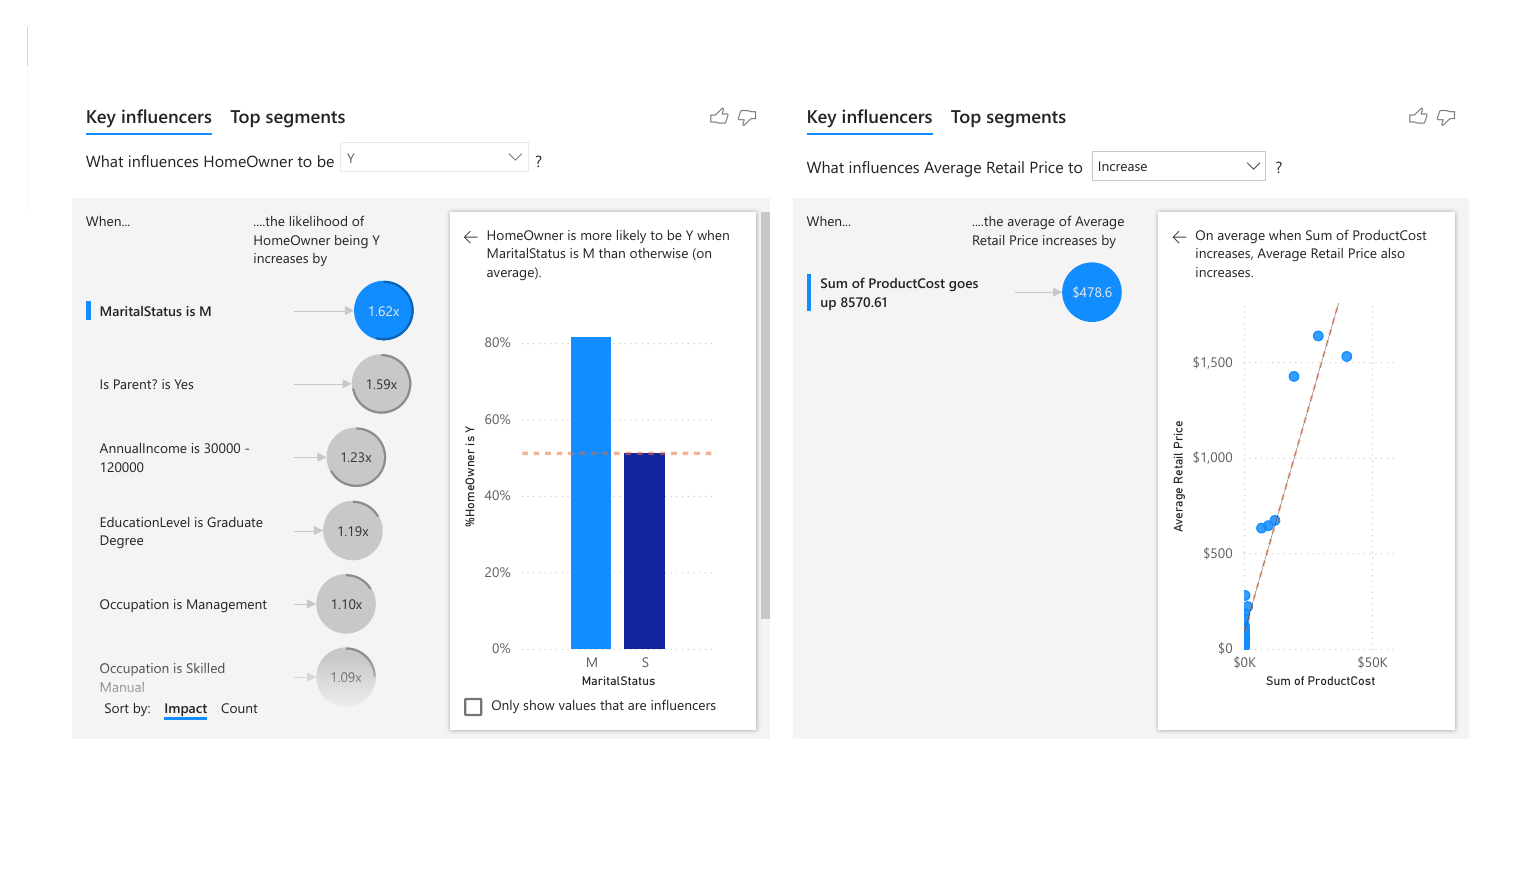

What the dashboard file says about the page in this screenshot:
{"tool":"powerbi","page":{"name":"Key Influencers","canvas":[1280,720],"ordinal":7},"visuals":[{"type":"keyDriversVisual","fields":{"Target":["Customer Lookup.HomeOwner"],"ExplainBy":["Customer Lookup.AnnualIncome","Customer Lookup.EducationLevel","Customer Lookup.Is Parent?","Customer Lookup.MaritalStatus","Customer Lookup.Occupation"]},"box":[33.9,54.3,619.4,571.9],"z":0},{"type":"keyDriversVisual","fields":{"ExplainBy":["Sum(Product Lookup.ProductCost)"],"Details":["Product Subcategories Lookup.SubcategoryName"],"Target":["Measure Table.Average Retail Price"]},"box":[663.5,54.3,599.1,571.9],"z":1000}]}

Visuals, with their boxes in screenshot pixels (x1, y1, x2, y2), scaled from the page's 1280x720 canvas onto the 1522x880 screenshot:
keyDriversVisual - Customer Lookup.HomeOwner x Customer Lookup.AnnualIncome: [40, 66, 777, 765]
keyDriversVisual - Sum(Product Lookup.ProductCost) x Product Subcategories Lookup.SubcategoryName: [789, 66, 1501, 765]
